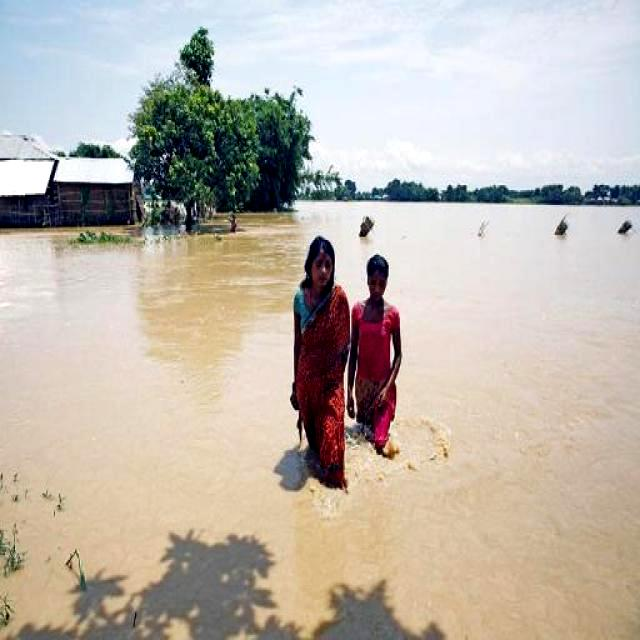civilian: (271, 227, 365, 508), (343, 239, 425, 473)
